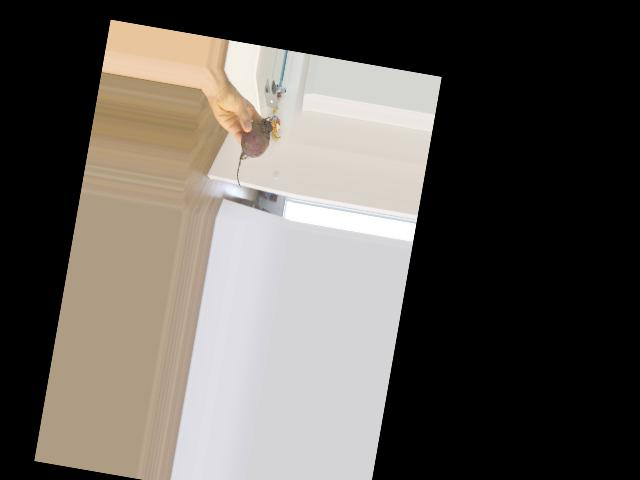beet: (233, 113, 274, 190)
